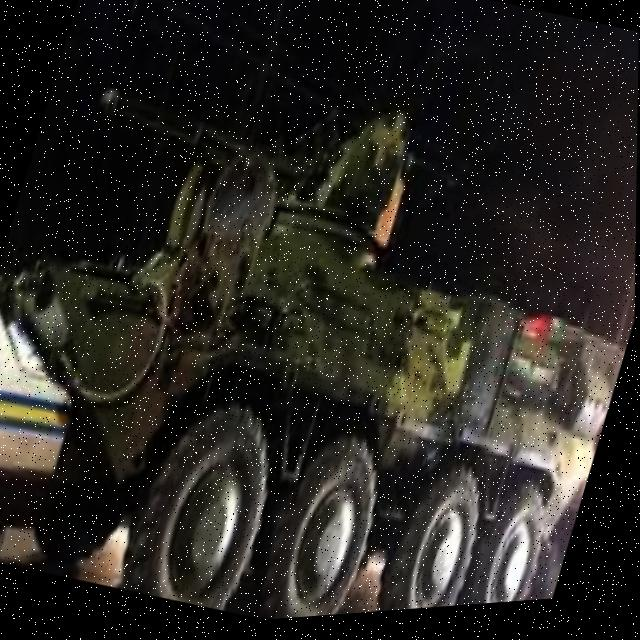MIL_APC: (0, 78, 639, 640)
